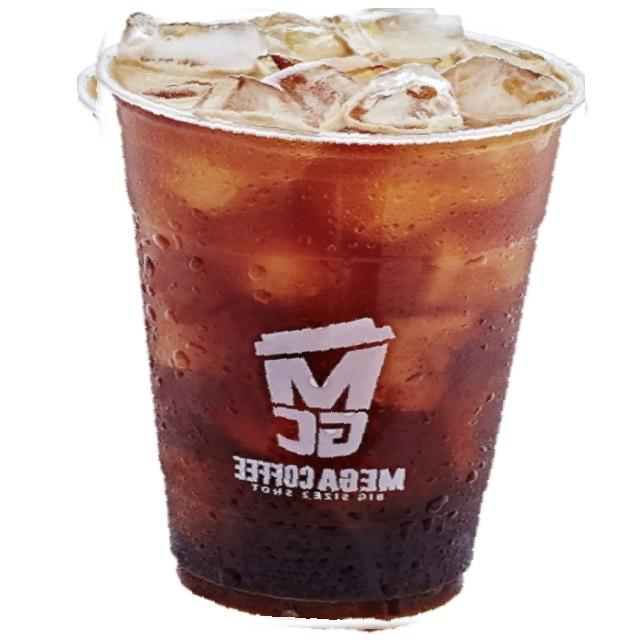recyclable: (62, 8, 585, 640)
